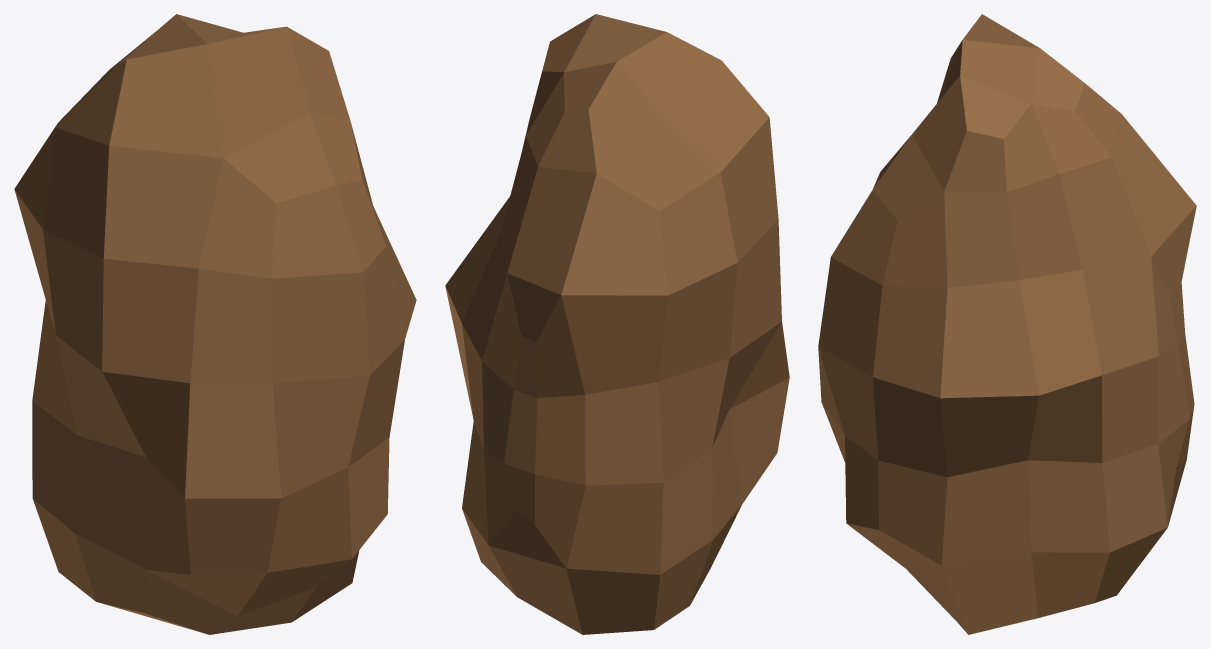
The model's file is Stone2_brown.fbx.
The picture shows the model from 3 angles, left to right: view 1: azimuth 30°, elevation 25°; view 2: azimuth 150°, elevation 25°; view 3: azimuth 270°, elevation 25°; orthographic projection. The views are drawn at different scales.
Parts seen in each view (by area): view 1: Stone2_gray; view 2: Stone2_gray; view 3: Stone2_gray.
Boxes of the visible parts, bbox=[...] form: Stone2_gray: bbox=[14, 14, 416, 634]; Stone2_gray: bbox=[445, 14, 789, 634]; Stone2_gray: bbox=[818, 14, 1196, 634].
Bounding box in the file's own units: 243 × 439 × 273.
